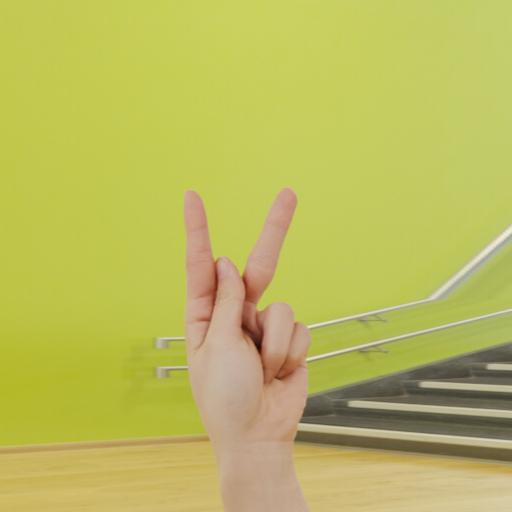K: (178, 185, 317, 450)
